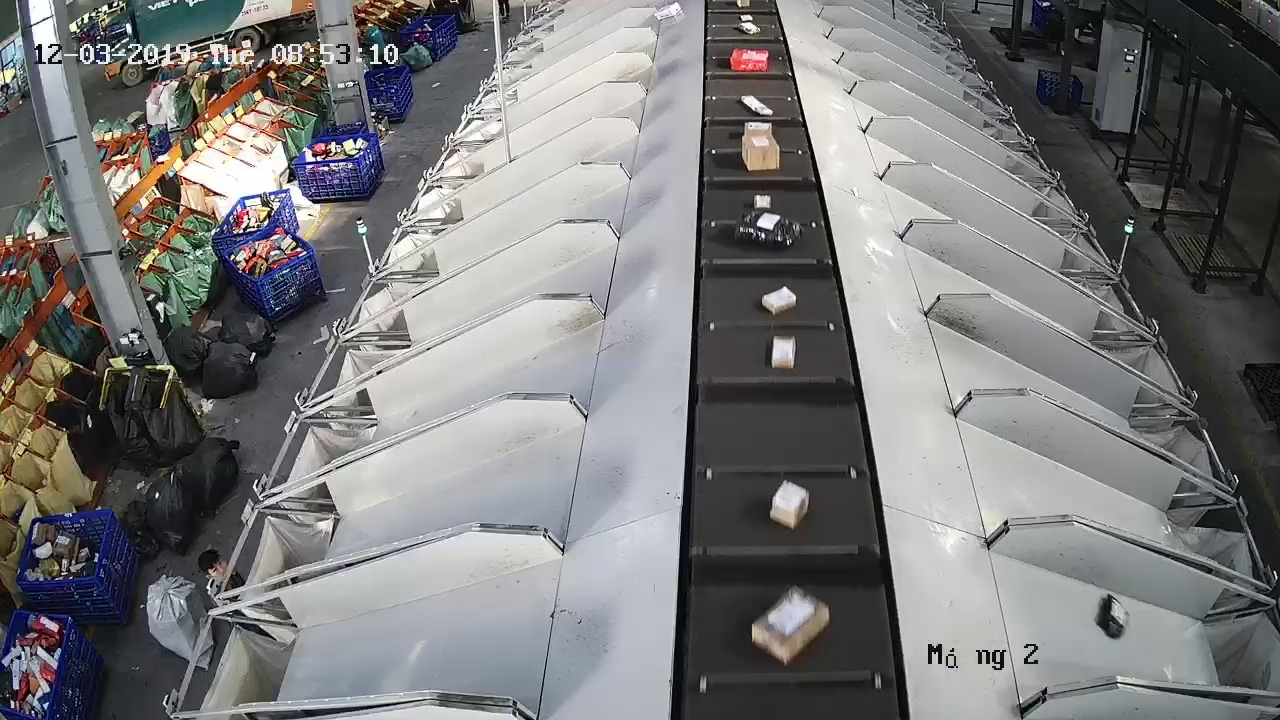parcel: (749, 584, 832, 668), (732, 211, 805, 250), (768, 479, 812, 531), (1093, 591, 1130, 639), (760, 284, 798, 317), (768, 334, 798, 371), (751, 192, 772, 210)
